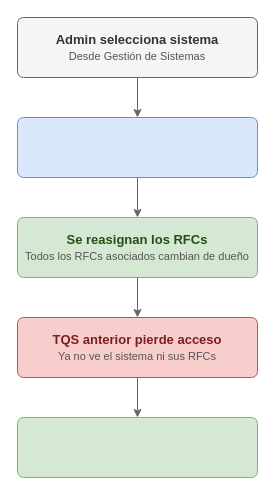
This 275x495 diagram has some shape labels left out. Each missing label, with the centre of its shape:
"Elige nuevo dueño TQS Leader destino" goes at [137,147].
"Nuevo TQS gana acceso Sistema y RFCs visibles en su menú" goes at [137,447].
